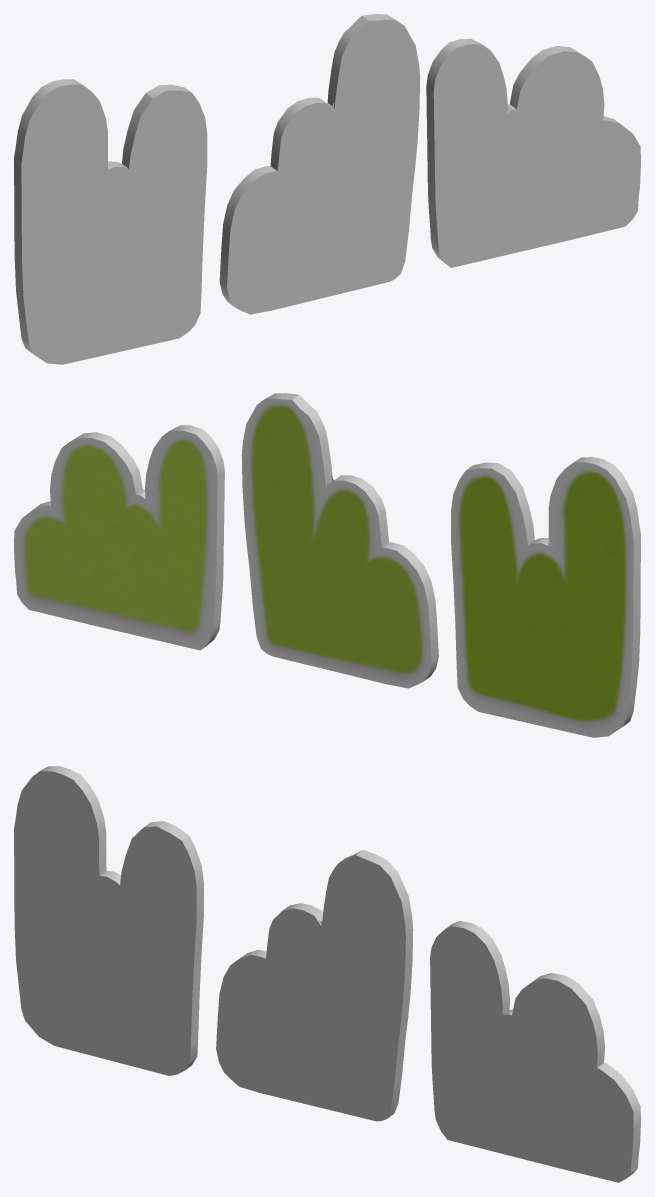
Rendered from grassTufts.fbx.
3 renders of one model, top to bottom at view 1: azimuth 30°, elevation 25°; view 2: azimuth 150°, elevation 25°; view 3: azimuth 330°, elevation 25°, orthographic.
Parts seen in each view (by area): view 1: grass3, grass2, grass1; view 2: grass3, grass2, grass1; view 3: grass3, grass2, grass1.
Boxes of the visible parts, x1,y1,x2,y2 form: grass3: [14, 79, 207, 364]; grass2: [219, 14, 420, 314]; grass1: [426, 38, 640, 267]; grass3: [451, 457, 640, 737]; grass2: [241, 393, 438, 688]; grass1: [14, 425, 224, 650]; grass3: [14, 766, 203, 1075]; grass2: [216, 850, 413, 1121]; grass1: [430, 921, 640, 1182].
Size of the model in its own units: 263 by 114 by 9.71.
